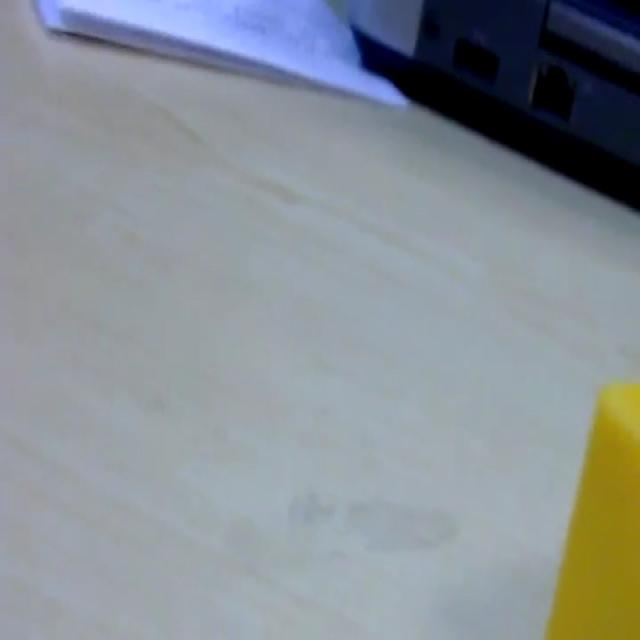yellow_block: (542, 377, 638, 636)
